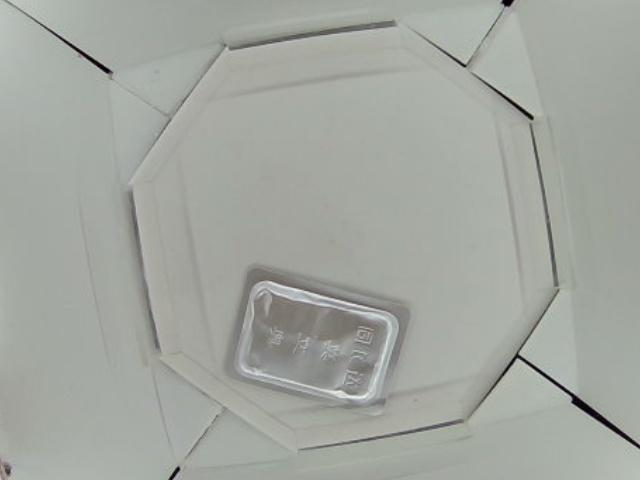Medicine: (228, 264, 412, 415)
